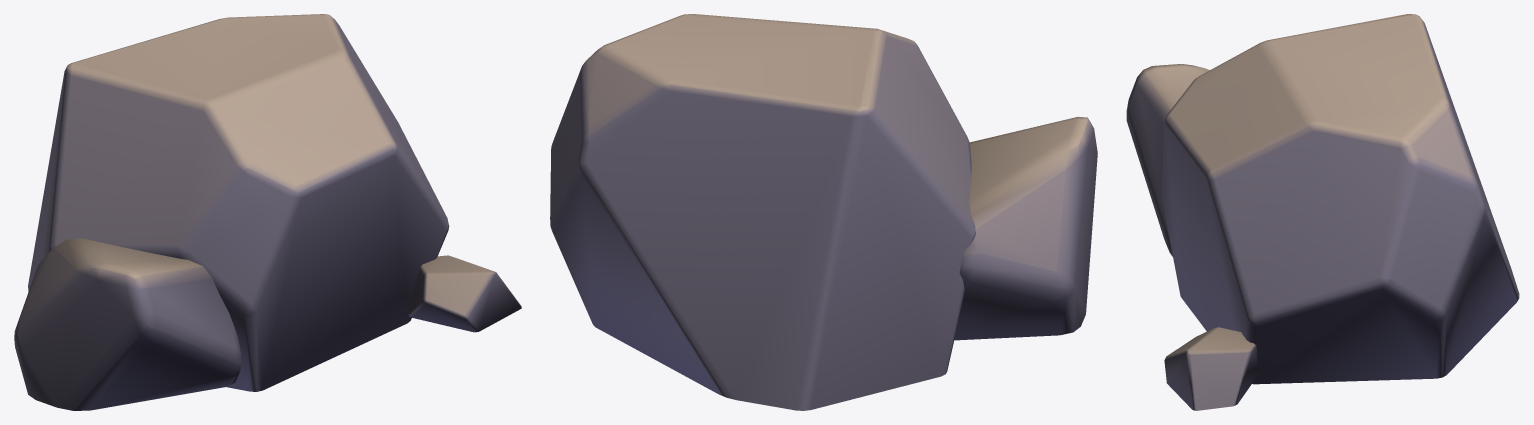
Rendered from BoulderLarge1.fbx.
The picture shows the model from 3 angles, left to right: view 1: azimuth 30°, elevation 25°; view 2: azimuth 150°, elevation 25°; view 3: azimuth 270°, elevation 25°; orthographic projection. The views are drawn at different scales.
Parts seen in each view (by area): view 1: BoulderLarge1; view 2: BoulderLarge1; view 3: BoulderLarge1.
Part boxes in pixels (left/top/right/bottom): BoulderLarge1: left=14, top=14, right=521, bottom=410; BoulderLarge1: left=550, top=14, right=1097, bottom=410; BoulderLarge1: left=1126, top=14, right=1519, bottom=410.
Size of the model in its own units: 3.6 by 1.91 by 2.71.
